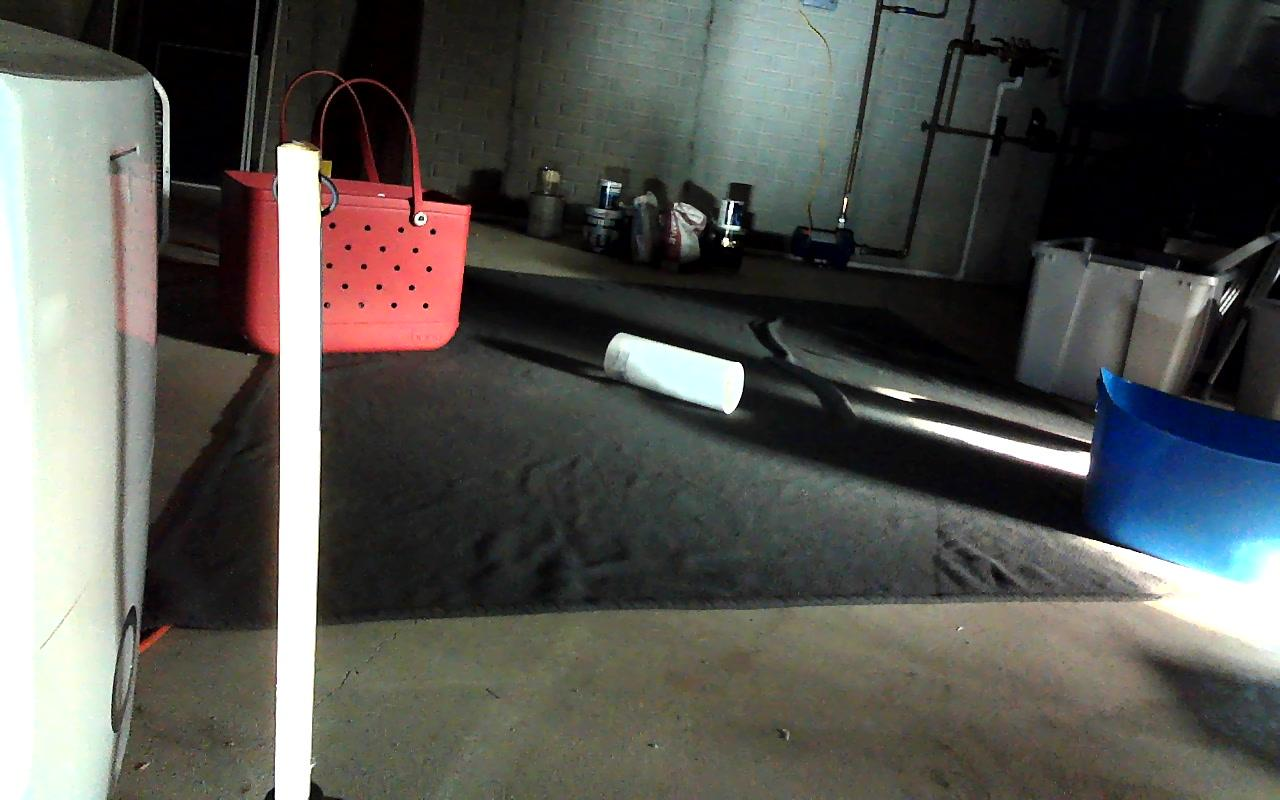coral: (604, 333, 744, 412)
